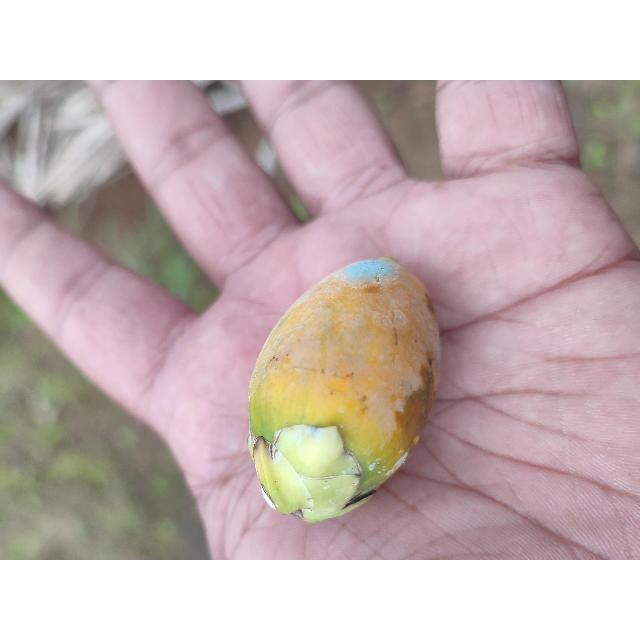good: (247, 258, 441, 525)
